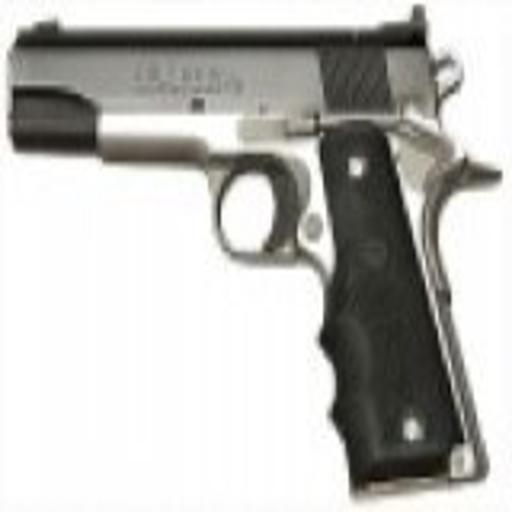Handgun: (5, 16, 491, 493)
